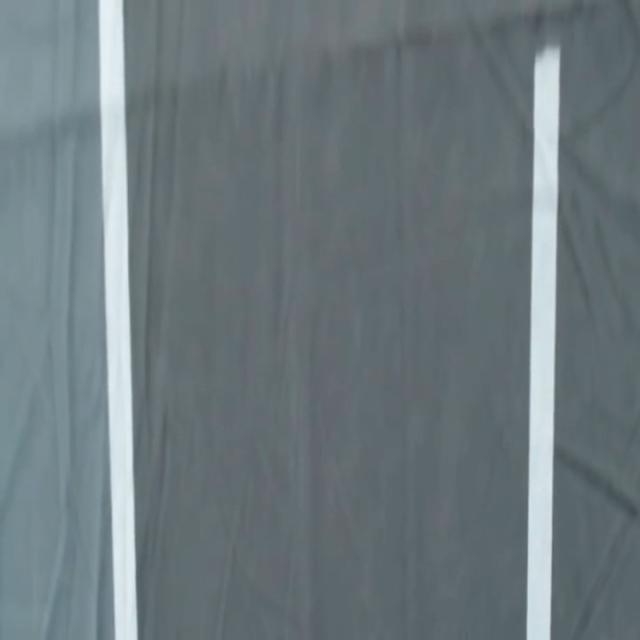center: (526, 44, 560, 639)
left: (99, 0, 136, 639)
